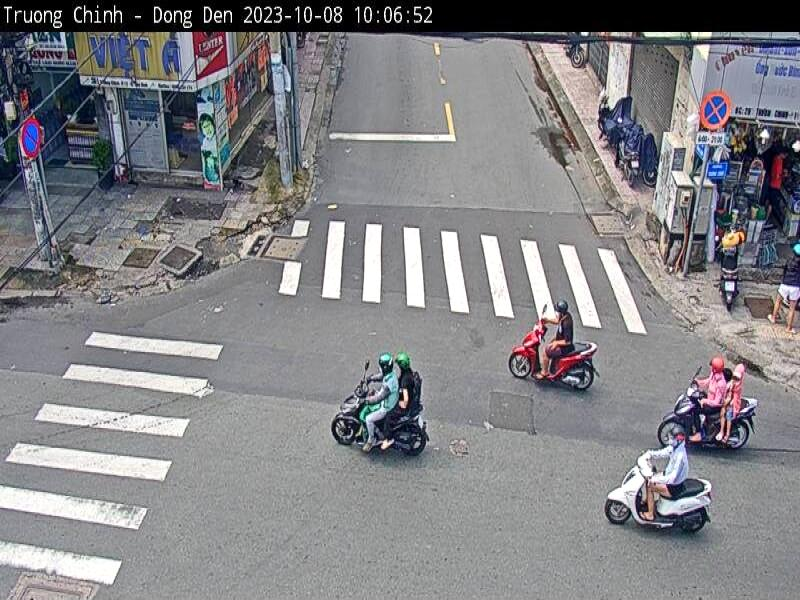motorcycle: (608, 456, 713, 536), (660, 376, 754, 456), (331, 380, 428, 456), (510, 320, 600, 388), (709, 230, 742, 308)
